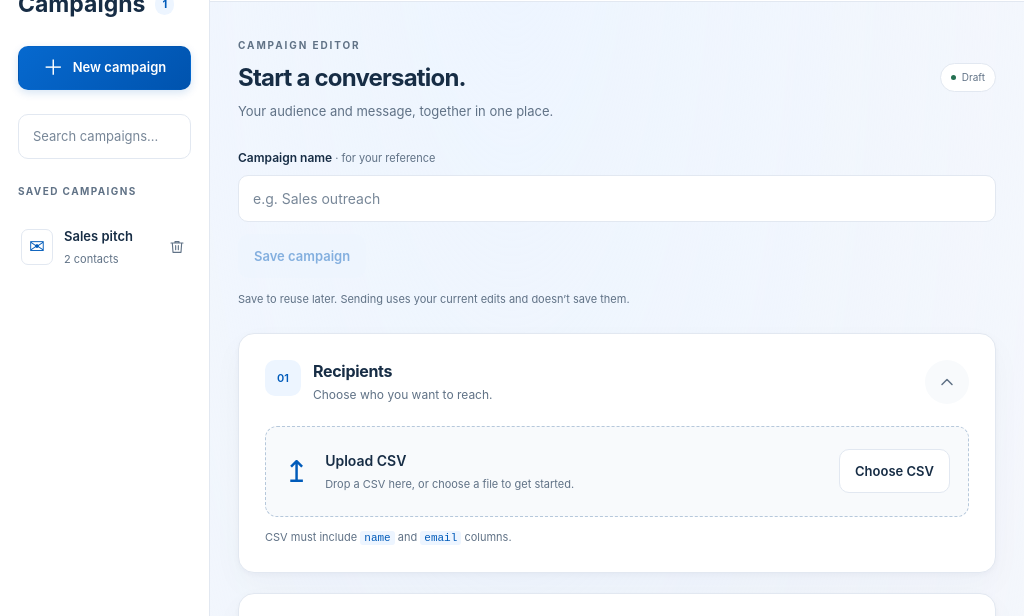
Test: overwrites the current campaign, then creates an independent copy
The image size is (1036, 616).
Click the button "✉ Sales pitch 2 contacts": x=85, y=247 [11,212,159,282]
(page scrolled)
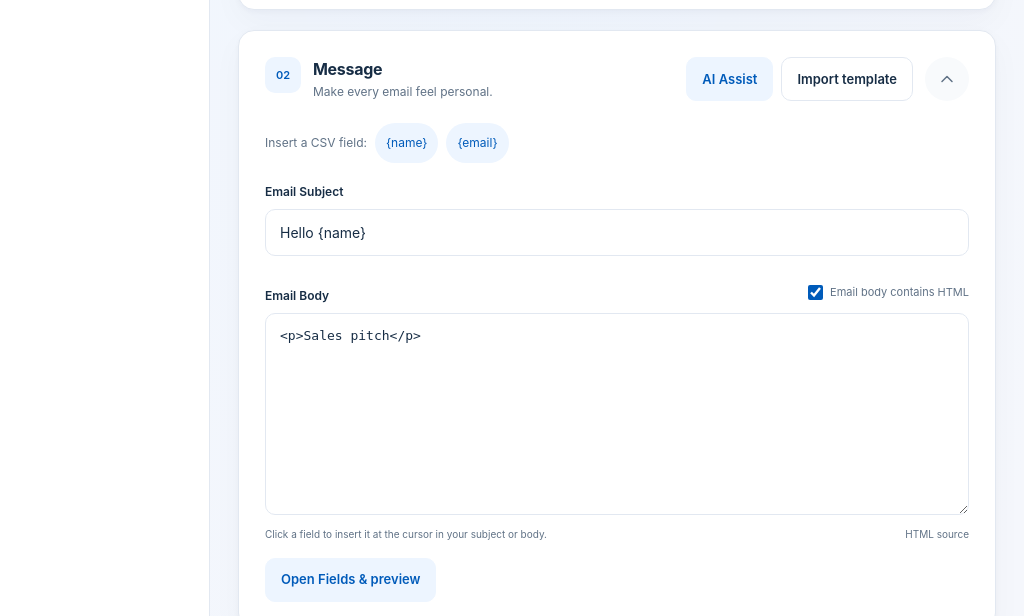
Expected: the text box showing "<p>Sales pitch</p>" is shown, [265,313,969,515]
Expected: the button with aria-label "Insert {name}" is shown, [375,123,438,163]
Replace the text in the field labelled "Email Subject" with "Revised pitch": x=617, y=233 [265,209,969,256]
(page scrolled)
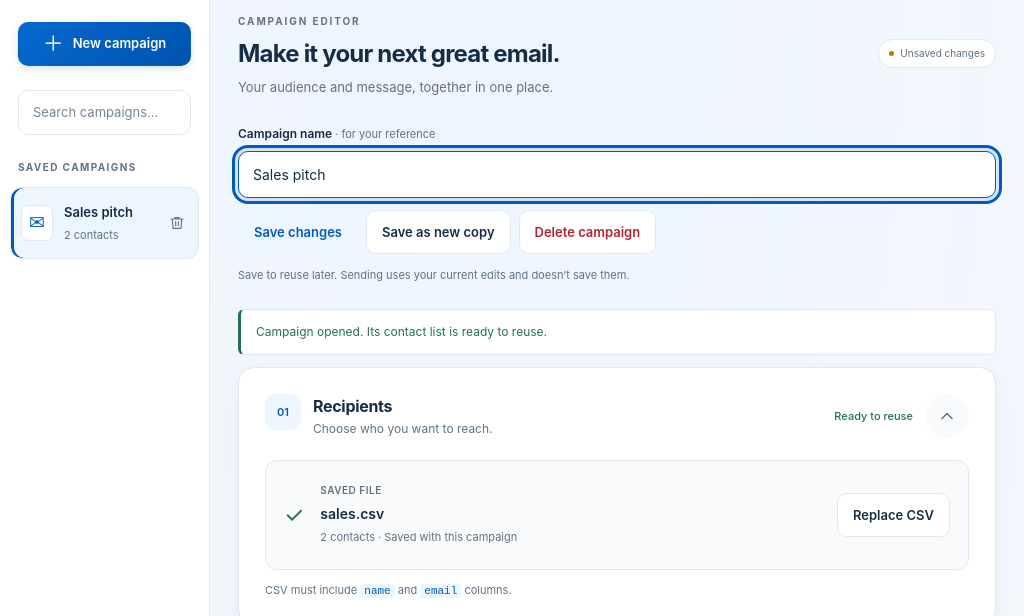
Click the button "Save changes": x=298, y=232 [238,210,358,254]
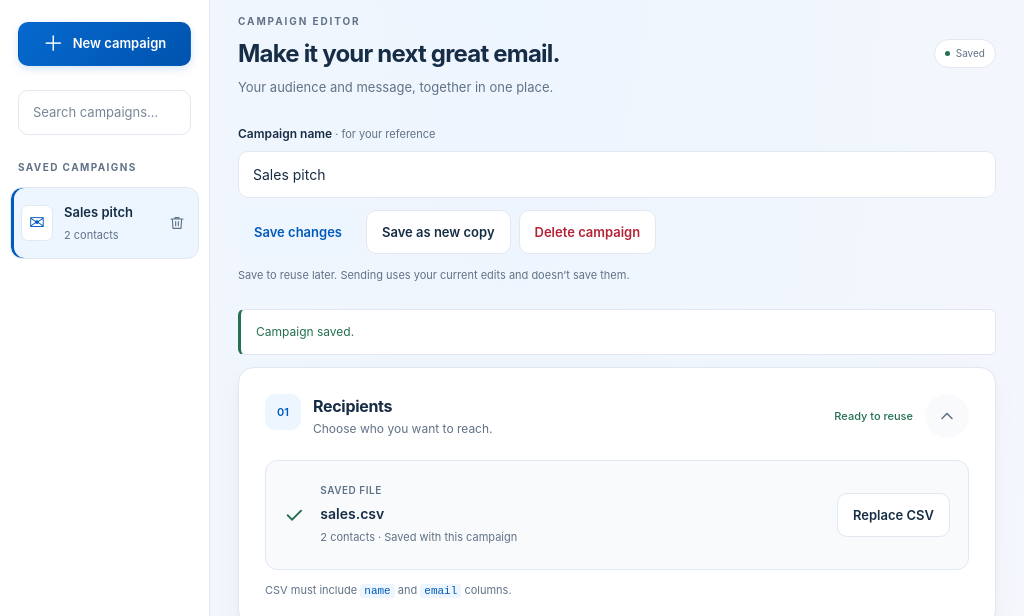
Expected: the text "Campaign saved." is shown, [238,309,996,355]
Click the button "Save as new copy": x=438, y=232 [366,210,511,254]
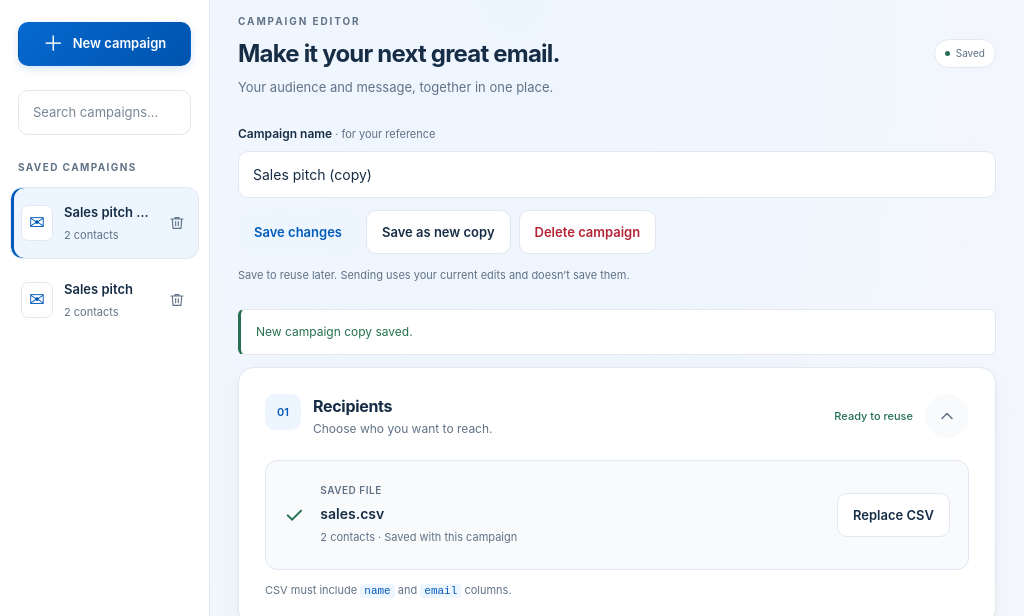
Expected: the text "New campaign copy saved." is shown, [238,309,996,355]
